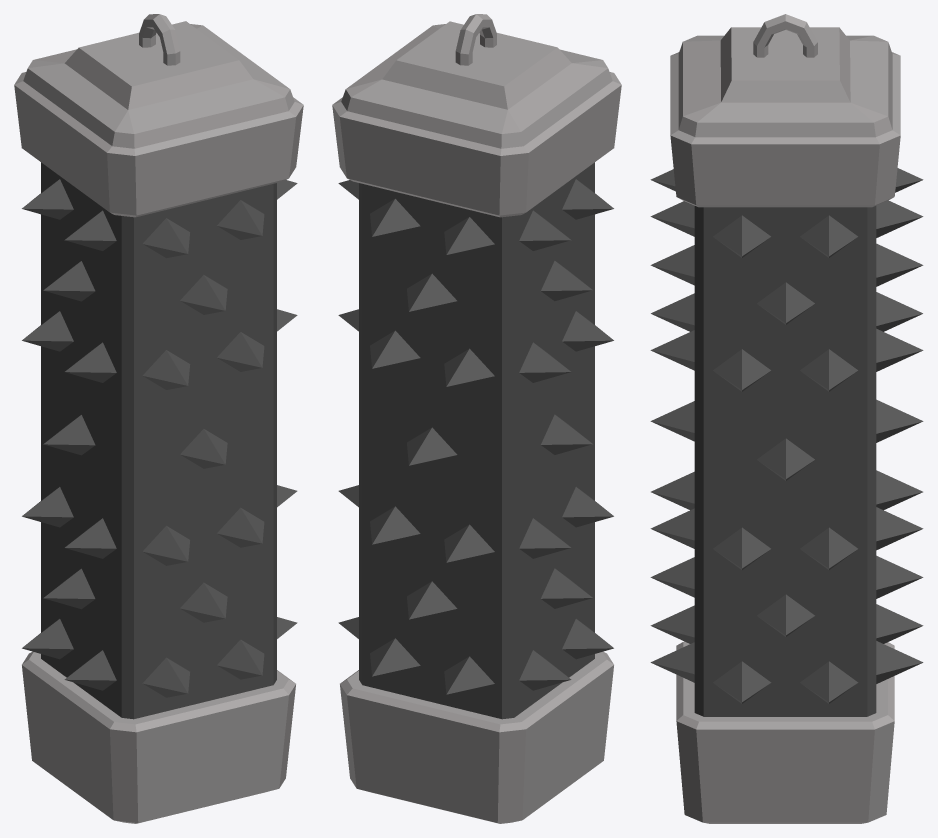
File: StoneBeamUpright.fbx
The picture shows the model from 3 angles, left to right: view 1: azimuth 30°, elevation 25°; view 2: azimuth 150°, elevation 25°; view 3: azimuth 270°, elevation 25°; orthographic projection.
Parts seen in each view (by area): view 1: StoneBeamUpright; view 2: StoneBeamUpright; view 3: StoneBeamUpright.
Boxes of the visible parts, x1=… form: StoneBeamUpright: x1=14, y1=14, x2=303, y2=823; StoneBeamUpright: x1=332, y1=14, x2=621, y2=823; StoneBeamUpright: x1=650, y1=14, x2=923, y2=823.
Bounding box in the file's own units: 57.25 × 183 × 57.25.
